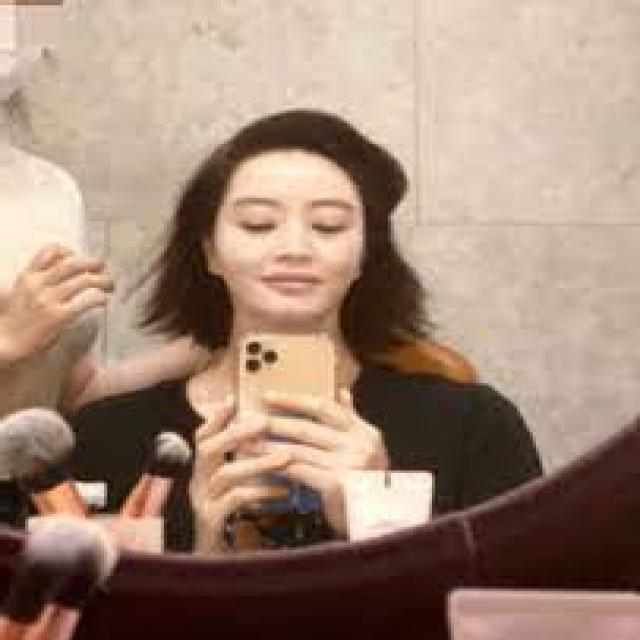mobile: (235, 330, 337, 508)
